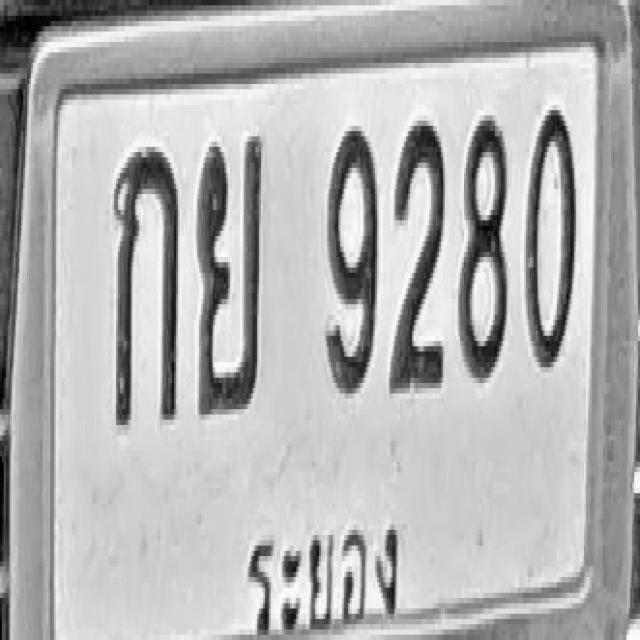0: (525, 105, 575, 367)
10GorGai: (112, 144, 178, 428)
2: (388, 118, 444, 391)
43YorYak: (196, 134, 264, 417)
8: (458, 113, 507, 380)
9: (326, 126, 378, 393)
Rayong: (238, 493, 404, 640)
